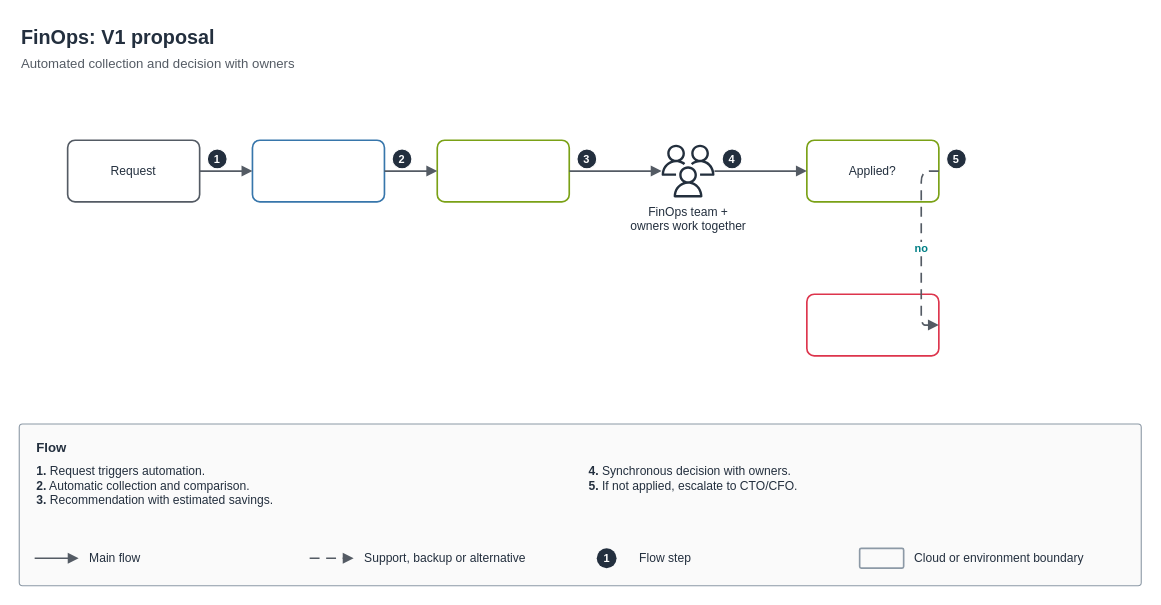
The diagram is 1161 pixels wide and 605 high, and some of its shapes have lost their labels. The shapes that lost their labels are listed below. From the top down, each one's box as (x1, y1, x2, y2) in pixels, then its label:
(251, 139, 385, 202): Python automation collects and compares
(436, 139, 570, 202): Recommendation with estimated savings
(806, 293, 939, 356): Escalate to CTO / CFO
